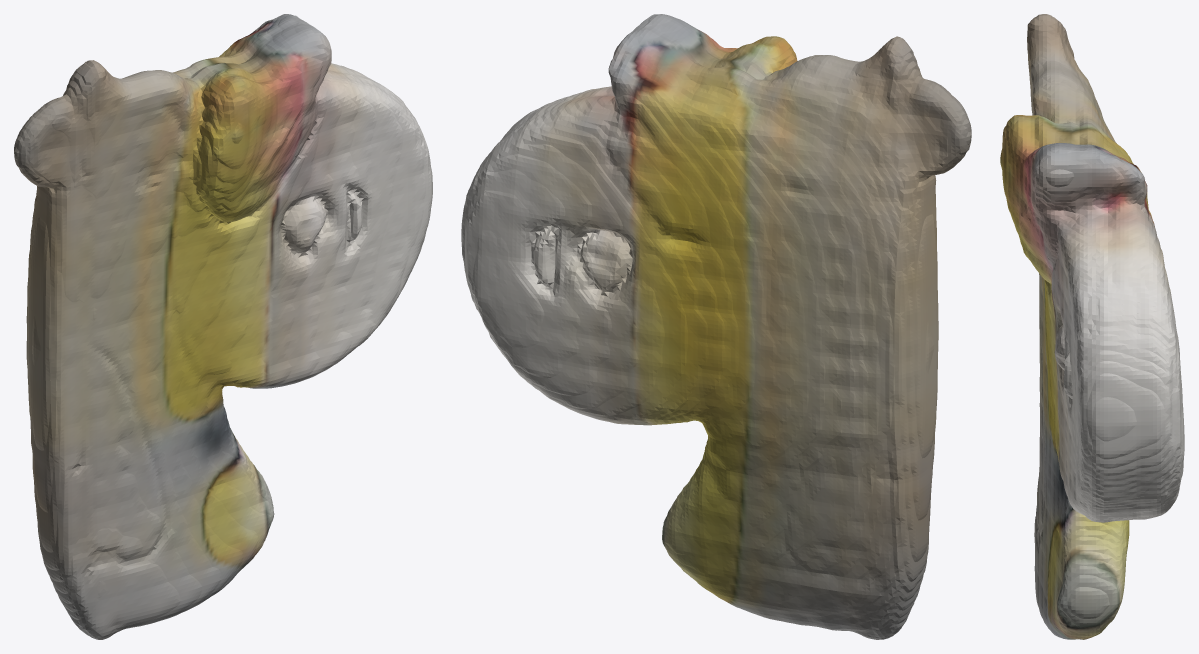
3 renders of one model, left to right at view 1: azimuth 30°, elevation 25°; view 2: azimuth 150°, elevation 25°; view 3: azimuth 270°, elevation 25°, orthographic. The views are drawn at different scales.
Visible parts, largest first — view 1: world; view 2: world; view 3: world.
Boxes of the visible parts, x1,y1,x2,y2 form: world: [14, 14, 432, 639]; world: [461, 14, 971, 639]; world: [1000, 14, 1184, 639].
Size of the model in its own units: 0.8396 by 1.06 by 0.3088.
